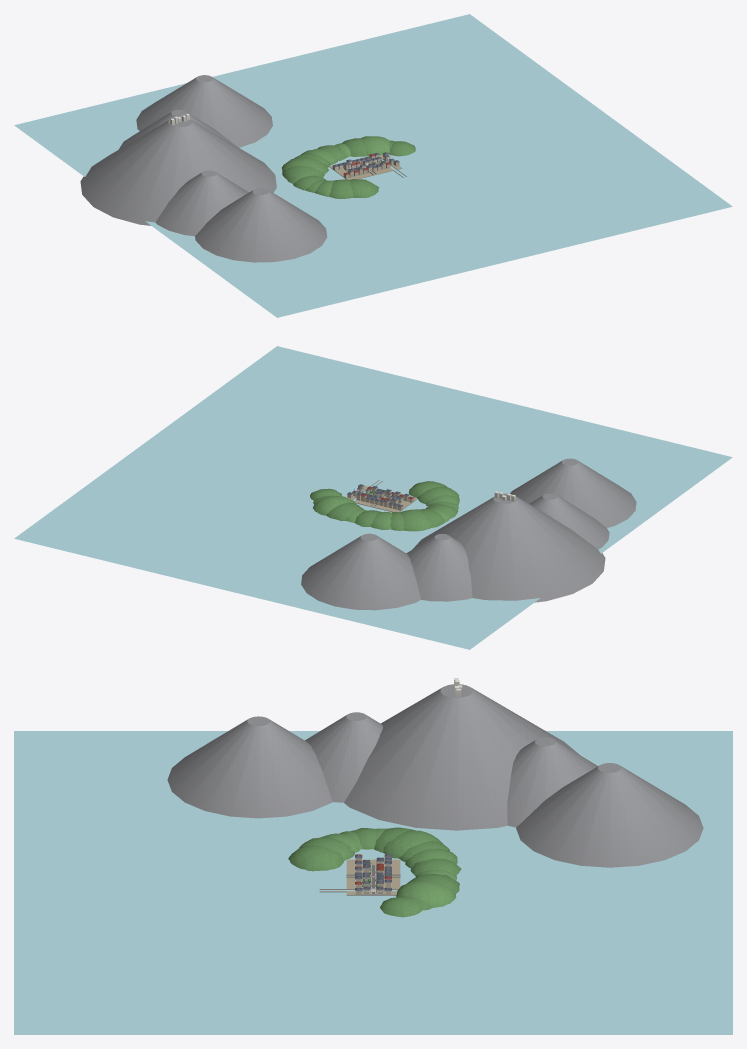
The model's file is city_street.glb.
The picture shows the model from 3 angles, top to bottom: view 1: azimuth 30°, elevation 25°; view 2: azimuth 150°, elevation 25°; view 3: azimuth 270°, elevation 25°; orthographic projection. The views are drawn at different scales.
Parts seen in each view (by area): view 1: water, far_mountains, far_hills; view 2: water, far_mountains, far_hills; view 3: water, far_mountains, far_hills, ground-col.
Part boxes in pixels (x1=…): water: x1=14, y1=14, x2=732, y2=317; far_mountains: x1=80, y1=75, x2=327, y2=262; far_hills: x1=282, y1=136, x2=415, y2=198; water: x1=14, y1=346, x2=732, y2=649; far_mountains: x1=301, y1=458, x2=636, y2=610; far_hills: x1=310, y1=481, x2=459, y2=531; water: x1=14, y1=731, x2=732, y2=1034; far_mountains: x1=167, y1=684, x2=703, y2=867; far_hills: x1=288, y1=827, x2=461, y2=917; ground-col: x1=346, y1=859, x2=400, y2=894.
Size of what is drawn, in the model's own units: 838 by 140 by 800.
Materials: 26 (19 with a texture image).
